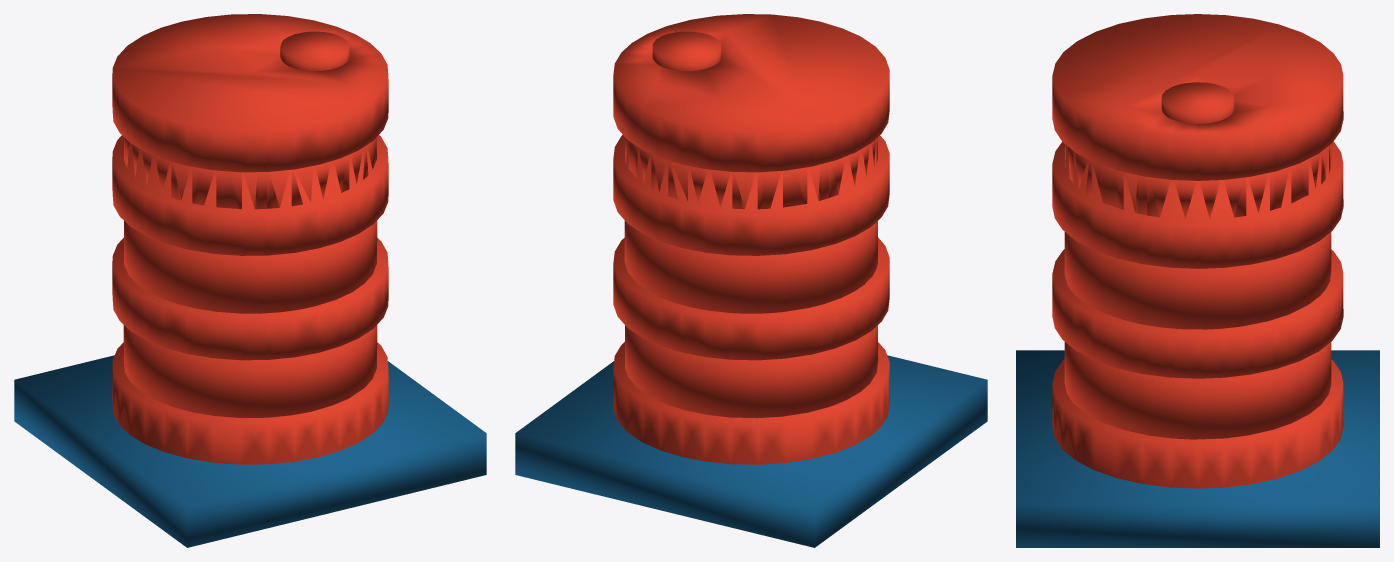
File: w_fuel.glb
3 renders of one model, left to right at view 1: azimuth 30°, elevation 25°; view 2: azimuth 150°, elevation 25°; view 3: azimuth 270°, elevation 25°, orthographic. The views are drawn at different scales.
Visible parts, largest first — view 1: figura, basetta; view 2: figura, basetta; view 3: figura, basetta.
Part boxes in pixels (x1=…): figura: x1=112, y1=14, x2=388, y2=464; basetta: x1=14, y1=355, x2=486, y2=547; figura: x1=613, y1=14, x2=889, y2=464; basetta: x1=515, y1=355, x2=987, y2=547; figura: x1=1052, y1=14, x2=1343, y2=488; basetta: x1=1016, y1=350, x2=1379, y2=547.
Size of the model in its own units: 0.015 by 0.0185 by 0.015.
